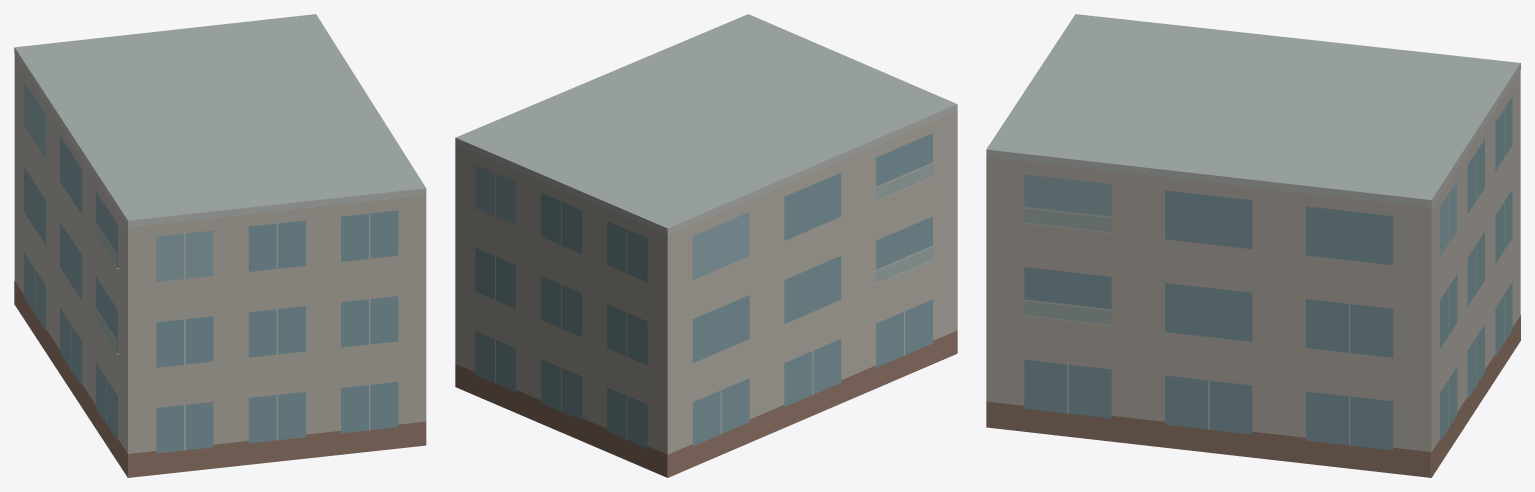
The model's file is survey-upis-32479443.glb.
The picture shows the model from 3 angles, left to right: view 1: azimuth 30°, elevation 25°; view 2: azimuth 150°, elevation 25°; view 3: azimuth 270°, elevation 25°; orthographic projection. The views are drawn at different scales.
Parts seen in each view (by area): view 1: survey-upis-32479443.tmp; view 2: survey-upis-32479443.tmp; view 3: survey-upis-32479443.tmp.
Boxes of the visible parts, x1,y1,x2,y2 form: survey-upis-32479443.tmp: (14, 14, 426, 477); survey-upis-32479443.tmp: (455, 14, 957, 477); survey-upis-32479443.tmp: (986, 14, 1520, 477).
Size of the model in its own units: 13.15 by 9.15 by 15.97.
